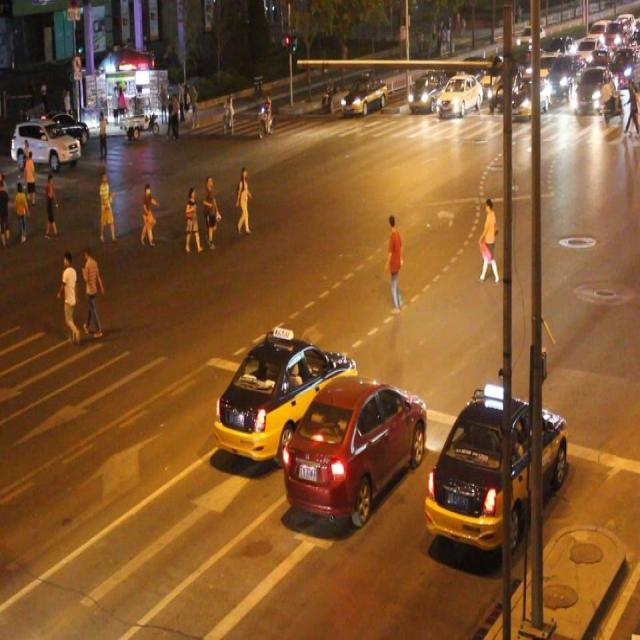car: (426, 391, 566, 551), (284, 374, 426, 522), (212, 332, 355, 464), (12, 118, 80, 170), (339, 74, 387, 116), (436, 73, 480, 115), (406, 72, 444, 112)
